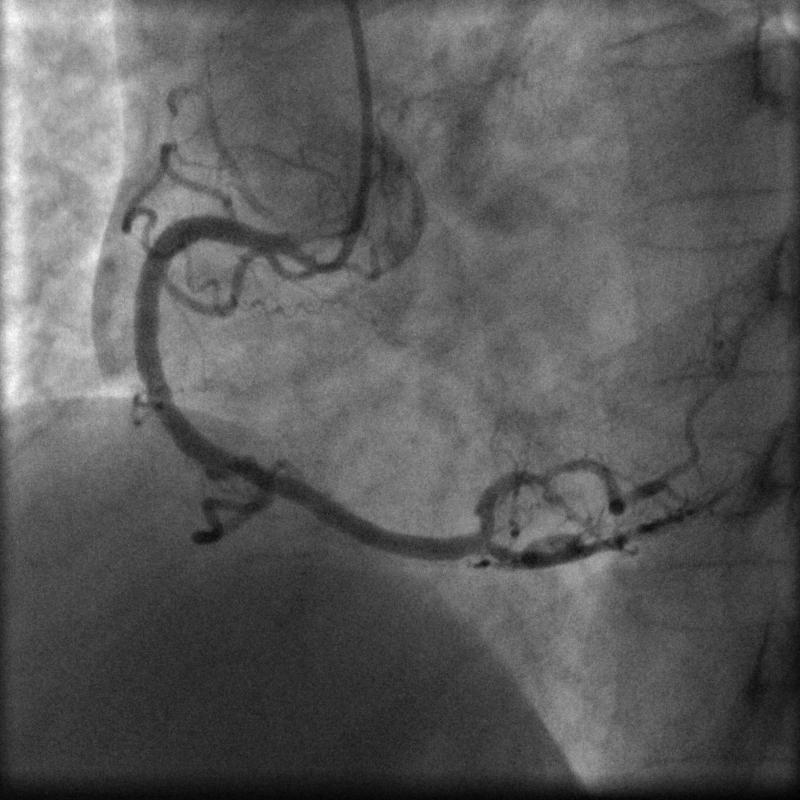Stenosis: (516, 455, 583, 487)
